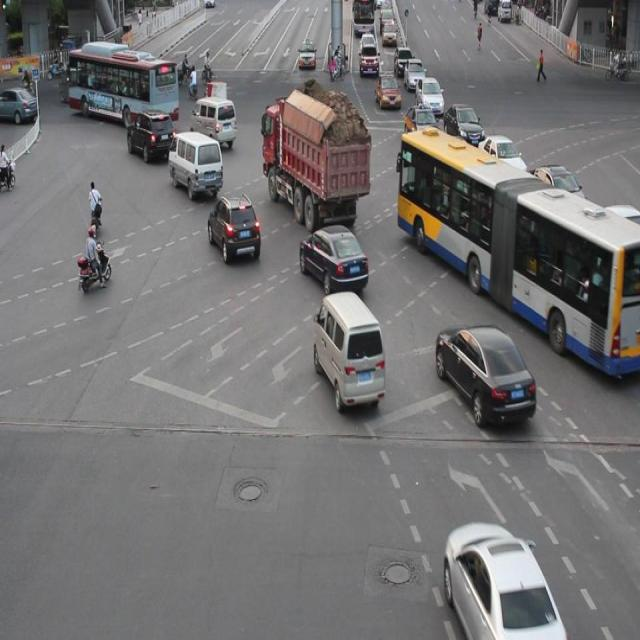bus: (261, 99, 369, 228)
car: (442, 518, 566, 640), (435, 321, 534, 423), (298, 224, 368, 295), (553, 214, 612, 283), (527, 161, 584, 221), (478, 200, 534, 261), (206, 195, 260, 258), (126, 110, 176, 162), (438, 141, 483, 198), (477, 134, 525, 186), (600, 200, 640, 255), (442, 103, 482, 147), (403, 106, 441, 150)
truck: (311, 291, 384, 408), (168, 129, 223, 198), (190, 95, 236, 147)
van: (398, 127, 640, 373), (67, 47, 179, 125)
